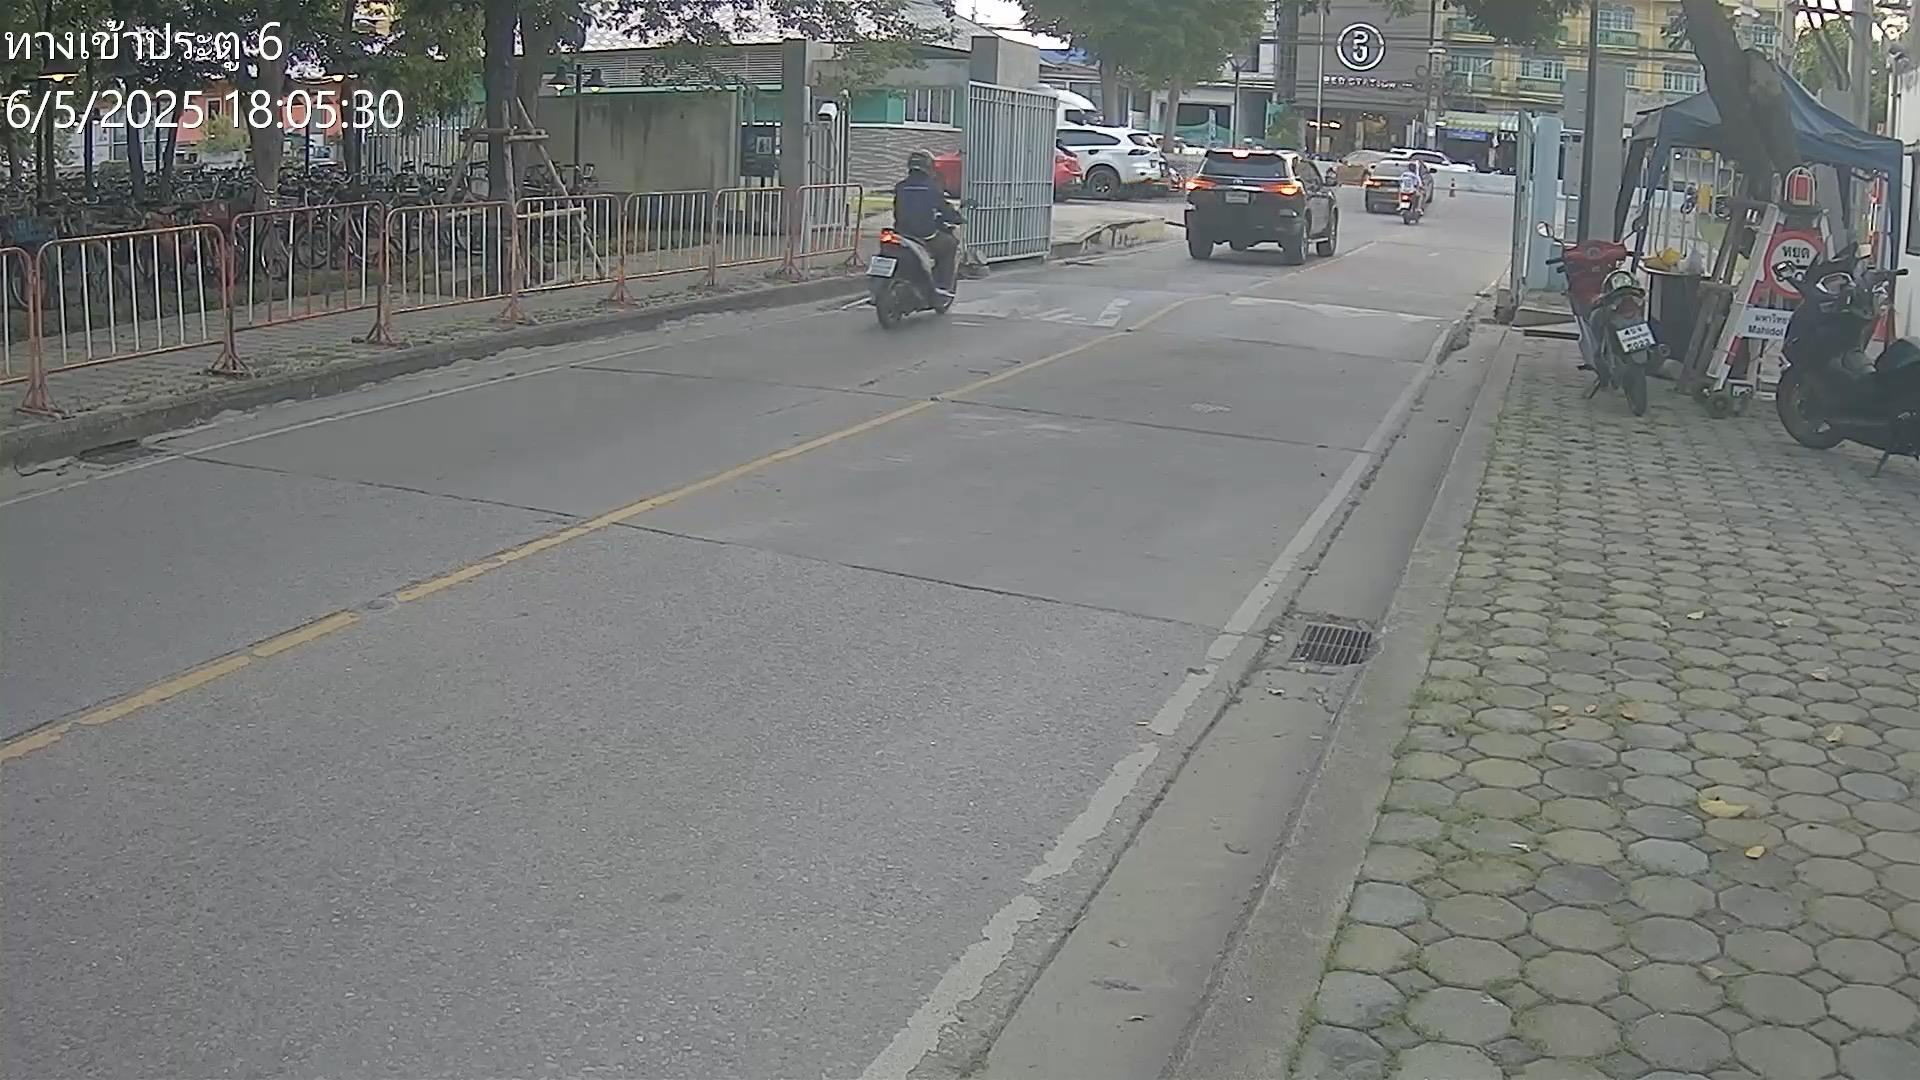With-Helmet: (907, 148, 936, 177)
